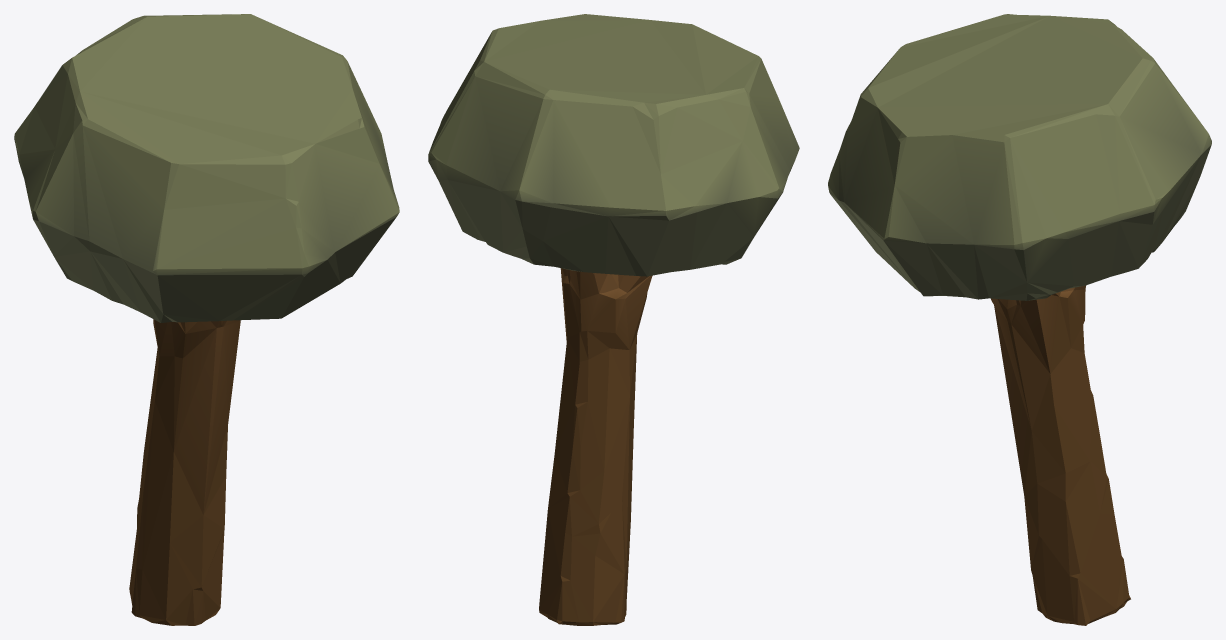
Rendered from Trees(1).glb.
The picture shows the model from 3 angles, left to right: view 1: azimuth 30°, elevation 25°; view 2: azimuth 150°, elevation 25°; view 3: azimuth 270°, elevation 25°; orthographic projection. The views are drawn at different scales.
Parts seen in each view (by area): view 1: Root; view 2: Root; view 3: Root.
Boxes of the visible parts, x1,y1,x2,y2 form: Root: (14, 14, 399, 625); Root: (428, 14, 799, 625); Root: (828, 14, 1211, 625).
Size of the model in its own units: 1.85 by 2.93 by 1.84.
